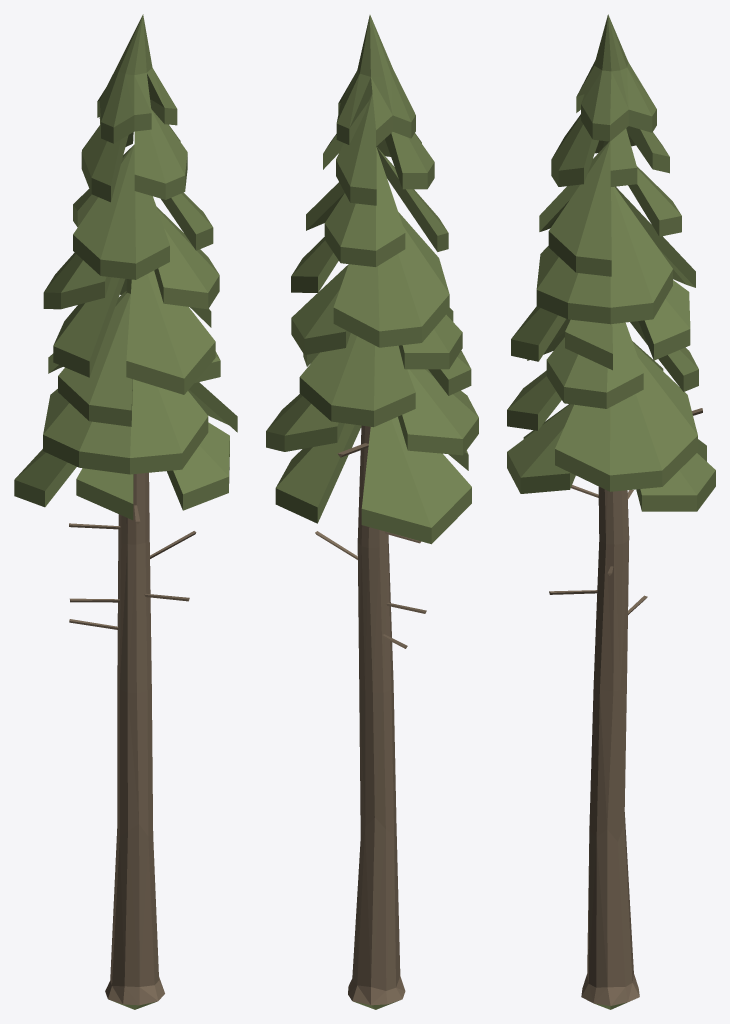
File: SM_Tree_PolyPine_Sparse_01.fbx
3 renders of one model, left to right at view 1: azimuth 30°, elevation 25°; view 2: azimuth 150°, elevation 25°; view 3: azimuth 270°, elevation 25°, orthographic.
Visible parts, largest first — view 1: SM_Tree_PolyPine_Sparse_01; view 2: SM_Tree_PolyPine_Sparse_01; view 3: SM_Tree_PolyPine_Sparse_01.
Part boxes in pixels (x1=…): SM_Tree_PolyPine_Sparse_01: x1=14, y1=14, x2=237, y2=1009; SM_Tree_PolyPine_Sparse_01: x1=266, y1=15, x2=478, y2=1009; SM_Tree_PolyPine_Sparse_01: x1=507, y1=14, x2=715, y2=1009.
Size of the model in its own units: 61.51 by 312 by 59.15.
Materials: 1 (1 with a texture image).
